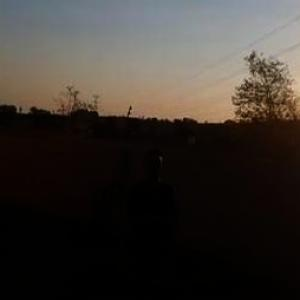follow: (124, 148, 184, 298)
